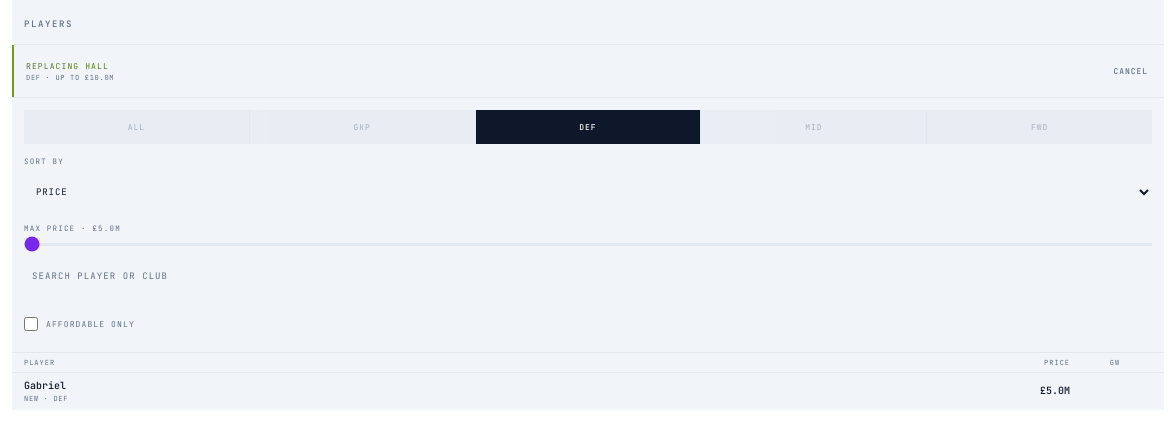
Test: searching for a player the list hides › still says nothing matched when nothing did
Type "zzzz" into the field named "Search players".
click(588, 276); type("zzzz")  # box [24,258,1152,296]
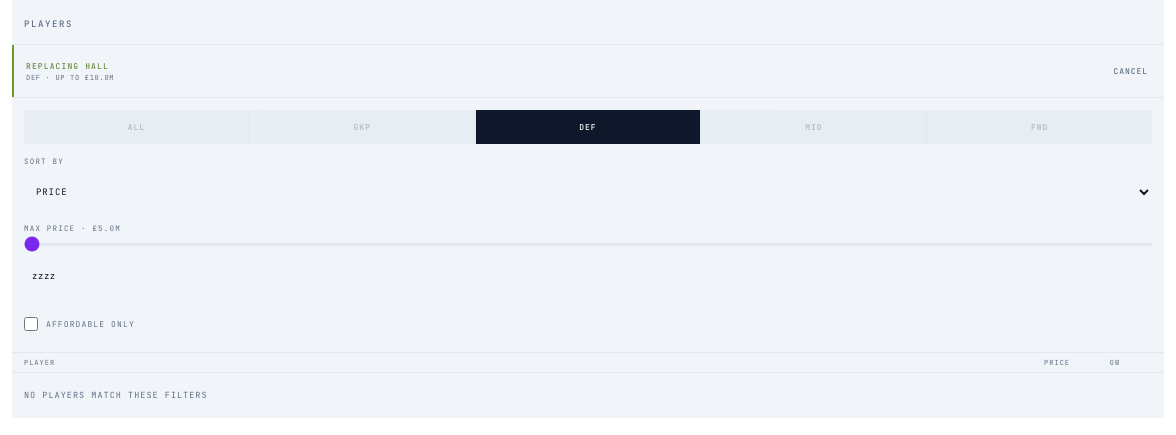
Expected: the text "NO PLAYERS MATCH THESE FILTERS" is shown, [12,372,1164,418]
